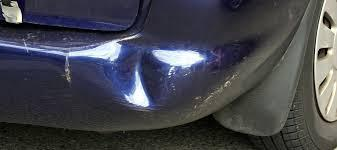front-bumper-dent: (59, 0, 305, 122)
